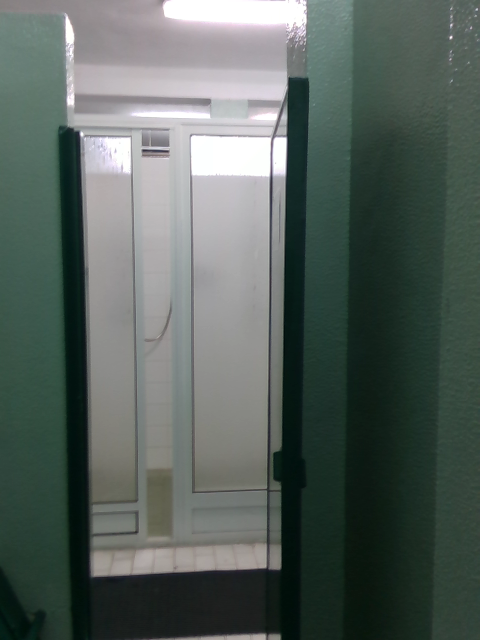open: (268, 79, 307, 639)
